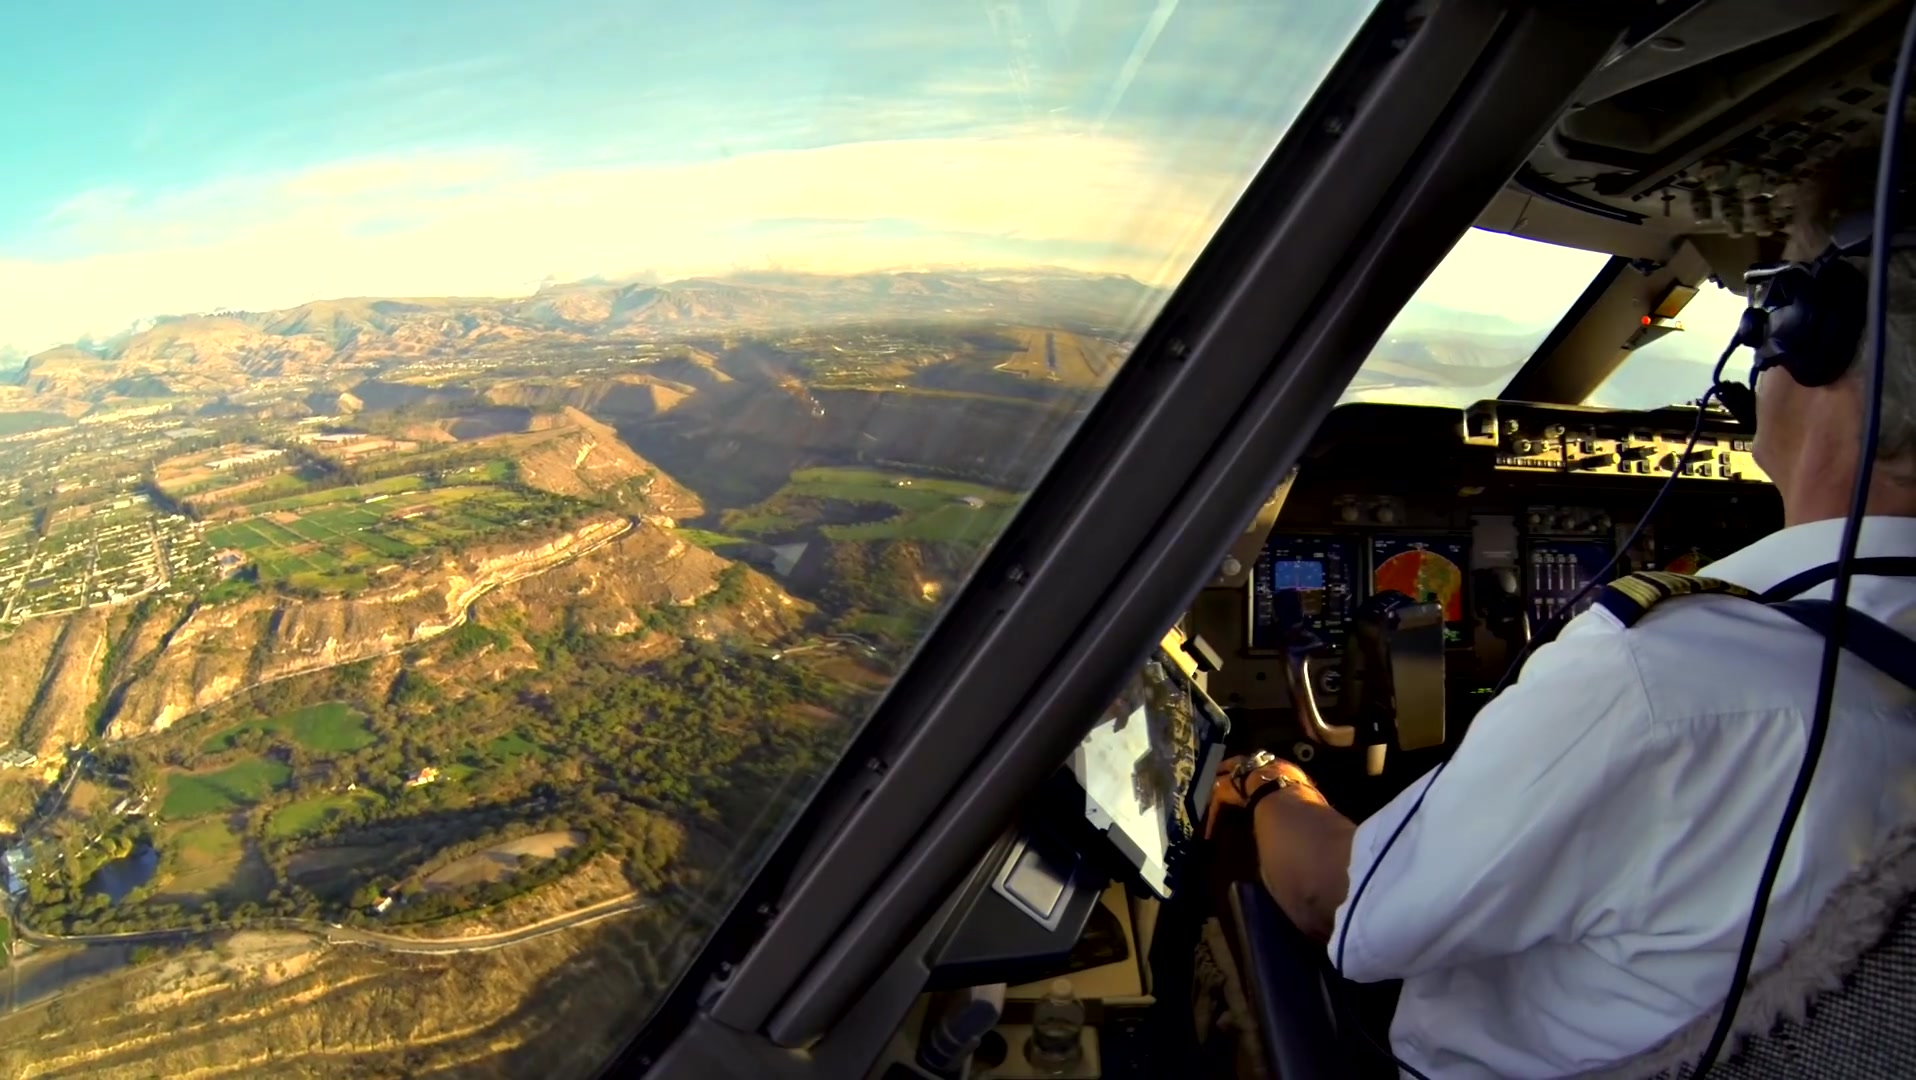runway: (1041, 330, 1063, 371)
